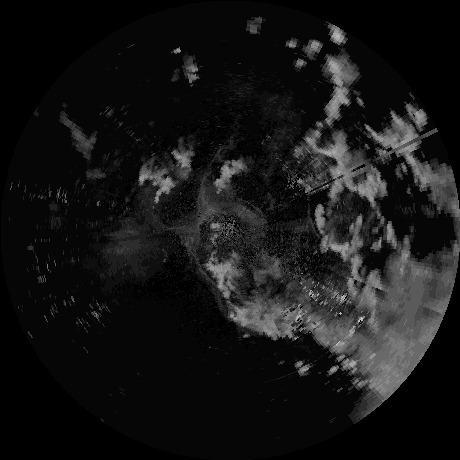frontgust: (196, 263, 226, 298), (203, 143, 223, 185), (302, 198, 321, 239)
